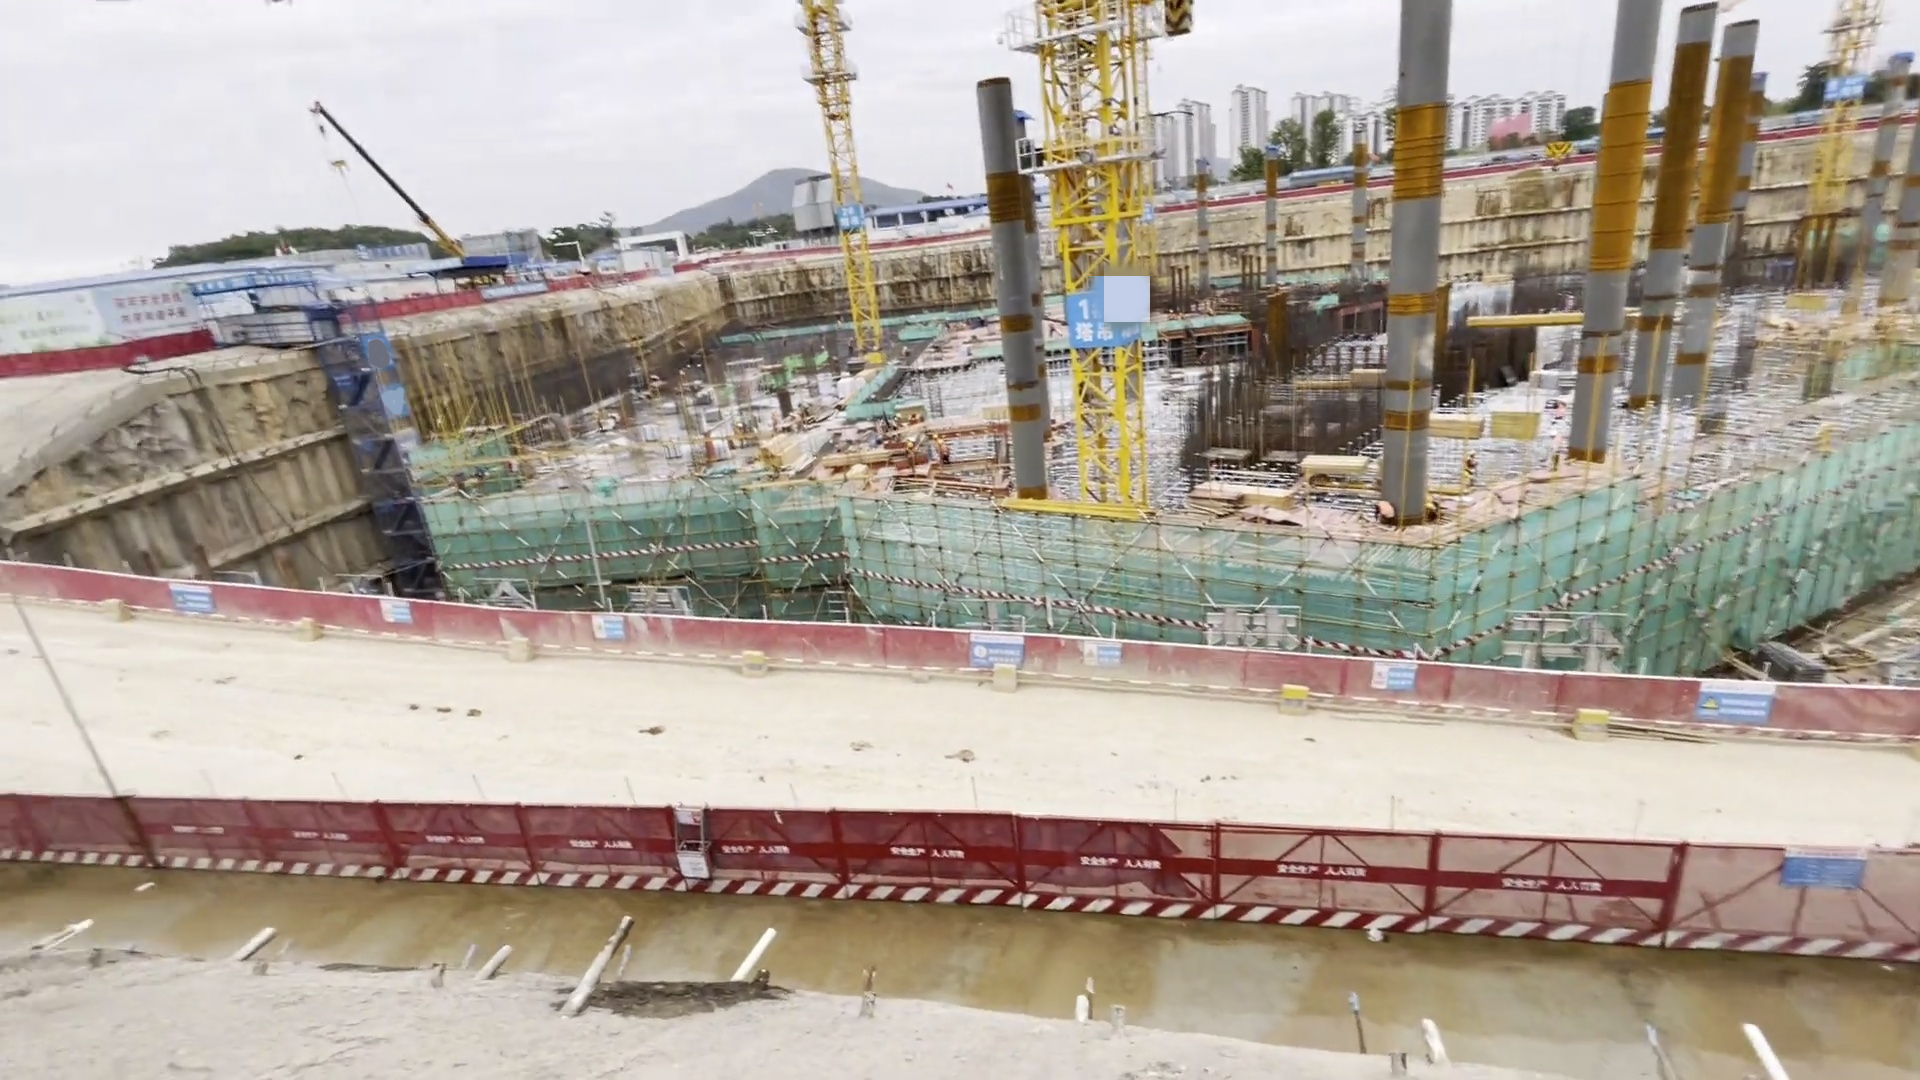fence: (1, 546, 1886, 986)
slogan: (1742, 818, 1879, 909), (1, 294, 107, 359), (96, 274, 194, 338), (1689, 676, 1782, 736), (967, 629, 1033, 673), (164, 575, 227, 617), (1361, 661, 1425, 694), (373, 593, 419, 630), (1081, 638, 1125, 673), (593, 611, 628, 644)
